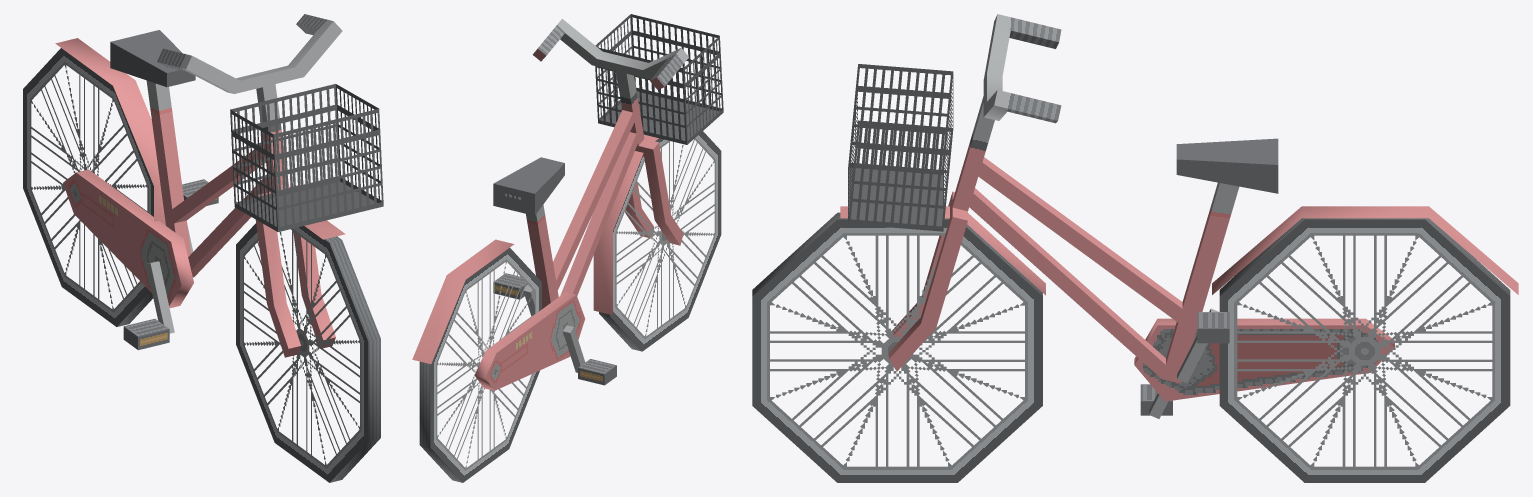
Rendered from 00bc_Bicycle.glb.
3 views of the same model, side by side, from view 1: azimuth 30°, elevation 25°; view 2: azimuth 150°, elevation 25°; view 3: azimuth 270°, elevation 25° (orthographic). The views are drawn at different scales.
Visible parts, largest first — view 1: part_0; view 2: part_0; view 3: part_0.
Part boxes in pixels (<box>): part_0: <box>23,14,383,482</box>; part_0: <box>412,14,723,482</box>; part_0: <box>752,14,1518,482</box>.
Size of the model in its own units: 0.5364 by 1.27 by 2.07.
Materials: 1 (1 with a texture image).
